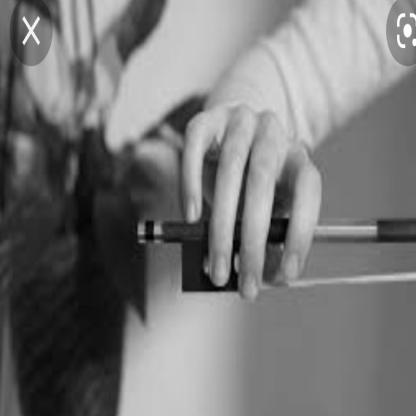good: (172, 91, 329, 303)
